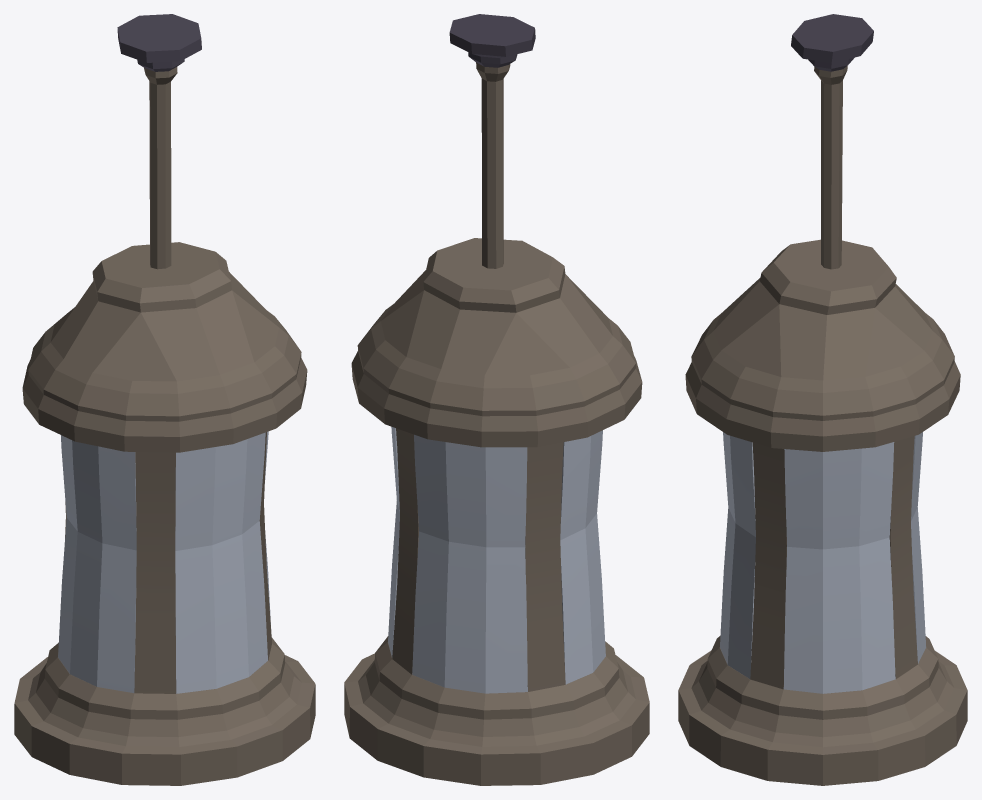
Rendered from ceiling_lamp.glb.
The picture shows the model from 3 angles, left to right: view 1: azimuth 30°, elevation 25°; view 2: azimuth 150°, elevation 25°; view 3: azimuth 270°, elevation 25°; orthographic projection.
Parts seen in each view (by area): view 1: CeilingLampFrame; view 2: CeilingLampFrame; view 3: CeilingLampFrame.
Part boxes in pixels (left/top/right/bottom): CeilingLampFrame: left=14, top=14, right=315, bottom=785; CeilingLampFrame: left=344, top=14, right=649, bottom=785; CeilingLampFrame: left=678, top=14, right=967, bottom=785.
Size of the model in its own units: 0.2015 by 0.5 by 0.1895.
